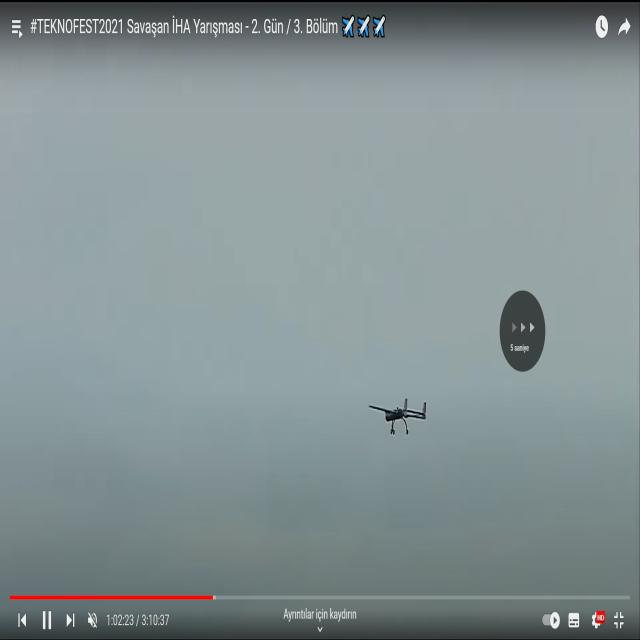iha: (367, 399, 428, 434)
